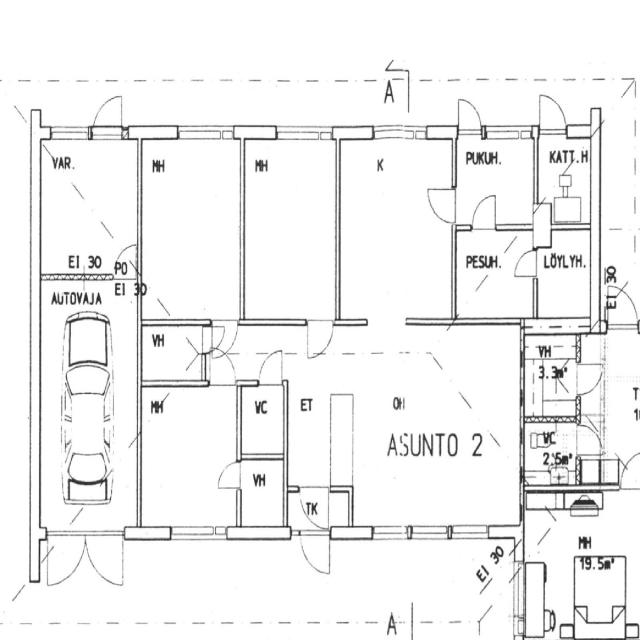door: (536, 104, 594, 221), (292, 486, 336, 531), (90, 91, 126, 140), (298, 528, 332, 579), (608, 285, 639, 334), (303, 316, 336, 362), (424, 182, 458, 225), (536, 92, 569, 136), (470, 190, 499, 234), (455, 96, 484, 138), (206, 318, 238, 356), (256, 348, 286, 388), (575, 359, 604, 398), (208, 351, 238, 388), (575, 422, 603, 461), (214, 457, 243, 493), (510, 247, 540, 281), (619, 448, 640, 492)
window: (168, 521, 229, 545), (274, 122, 334, 146), (370, 121, 428, 144), (176, 122, 234, 144), (368, 521, 412, 544), (408, 521, 450, 544), (448, 521, 491, 543), (484, 123, 530, 143), (47, 123, 91, 143), (361, 312, 409, 329), (516, 482, 528, 509), (517, 363, 527, 395)
zone: (286, 322, 522, 525), (336, 136, 456, 324), (139, 134, 244, 323), (240, 135, 339, 322), (522, 489, 639, 640), (139, 381, 242, 532), (38, 137, 142, 278), (451, 225, 538, 318), (454, 134, 538, 229), (535, 225, 595, 325), (41, 528, 128, 593), (536, 132, 594, 220), (522, 332, 580, 419), (141, 323, 208, 385), (521, 418, 580, 488), (239, 384, 287, 459), (239, 457, 286, 530), (522, 563, 550, 638), (292, 485, 336, 532)
